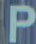Parking: (7, 3, 35, 42)
